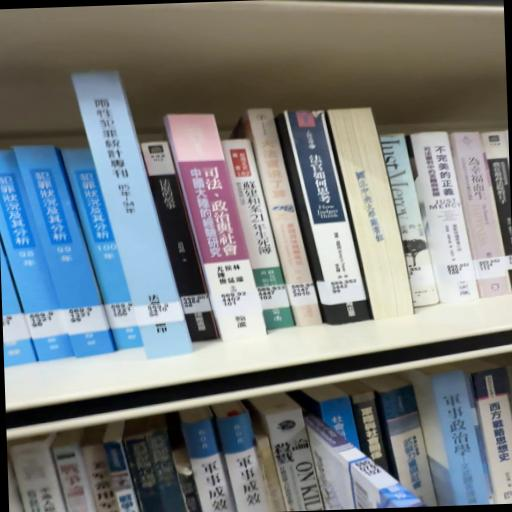backward: (326, 108, 414, 320)
book: (70, 68, 190, 361), (167, 111, 273, 345), (279, 109, 376, 330), (235, 106, 322, 335), (325, 108, 414, 327), (410, 135, 480, 309), (367, 381, 432, 509)
